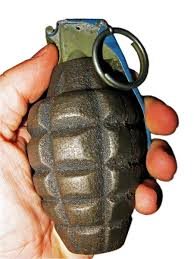e1: (27, 17, 150, 253)
